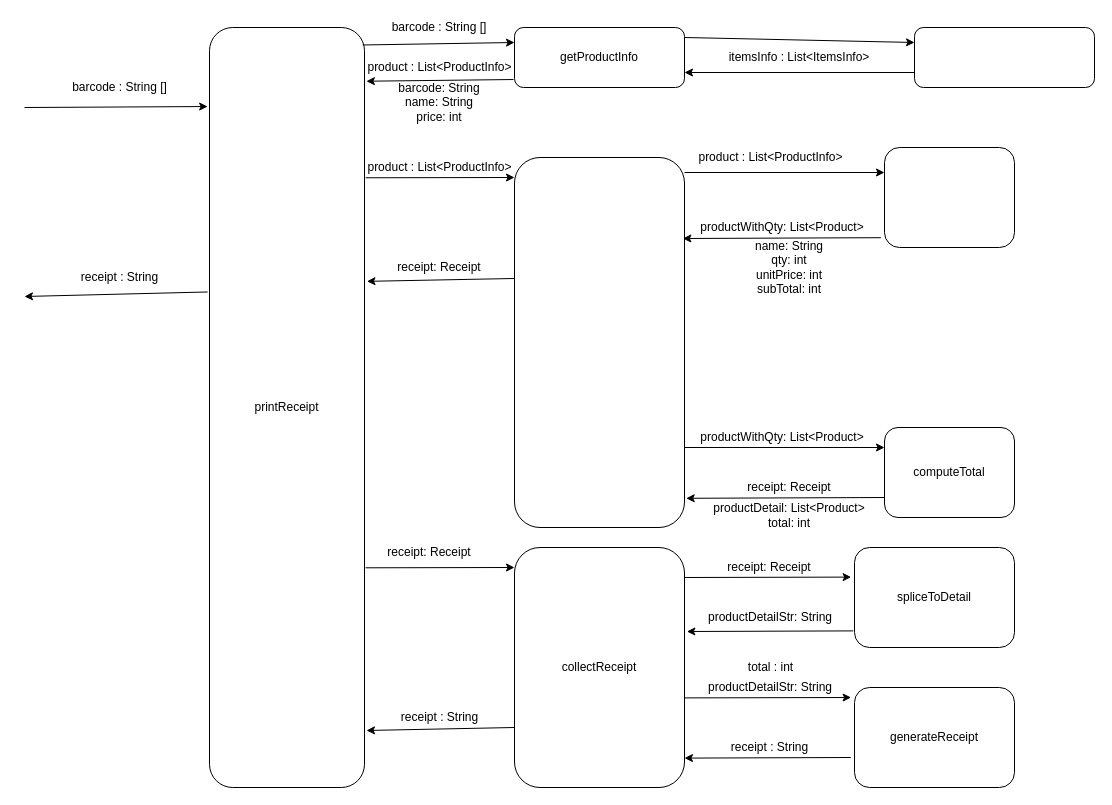
Some shapes in this 1112 by 805 pixel diagram are drawn without their labels. Each missing label, with the centre of its shape:
computeProduct: the point at 599,342
countQtyProduct: the point at 949,197
loadAllItemsInfo: the point at 1004,57
